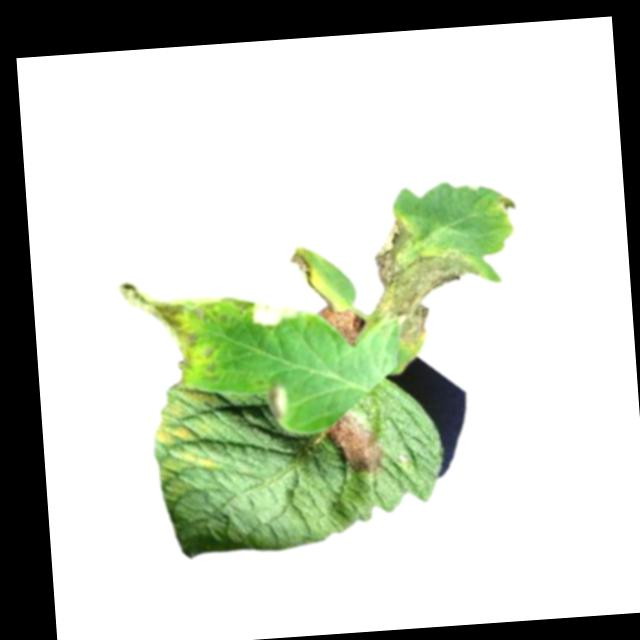Late_blight: (369, 212, 484, 347), (115, 278, 201, 390), (325, 409, 385, 478), (316, 301, 366, 351), (250, 296, 304, 331), (288, 249, 316, 295), (265, 383, 289, 421), (493, 193, 521, 219)
